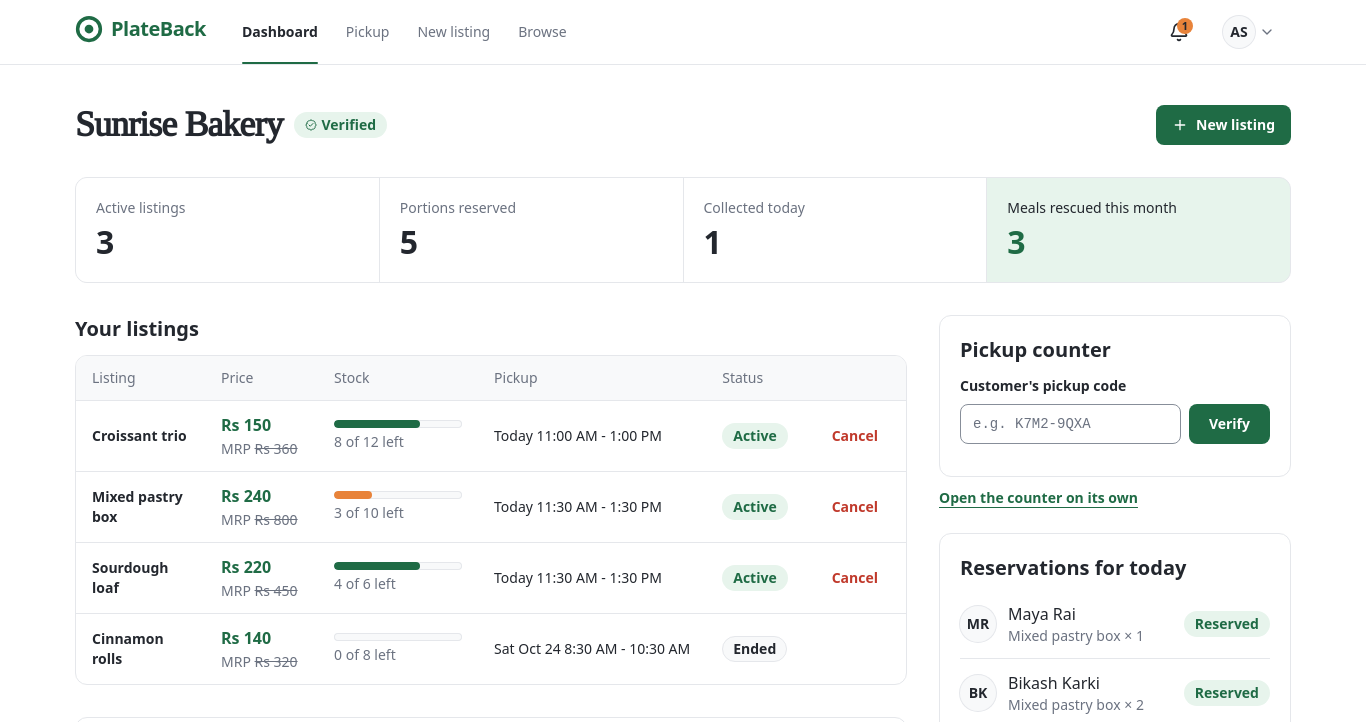
Test case: OrgDashboardPage › rejects an unknown code and changes nothing
The image size is (1366, 722).
Check: the heading "Sunrise Bakery" is shown, box [75,105,282,145]
Type "AAAA-BBBB" into the field labelled "Customer's pickup code". click: (1070, 424)
box: [960,404,1181,444]
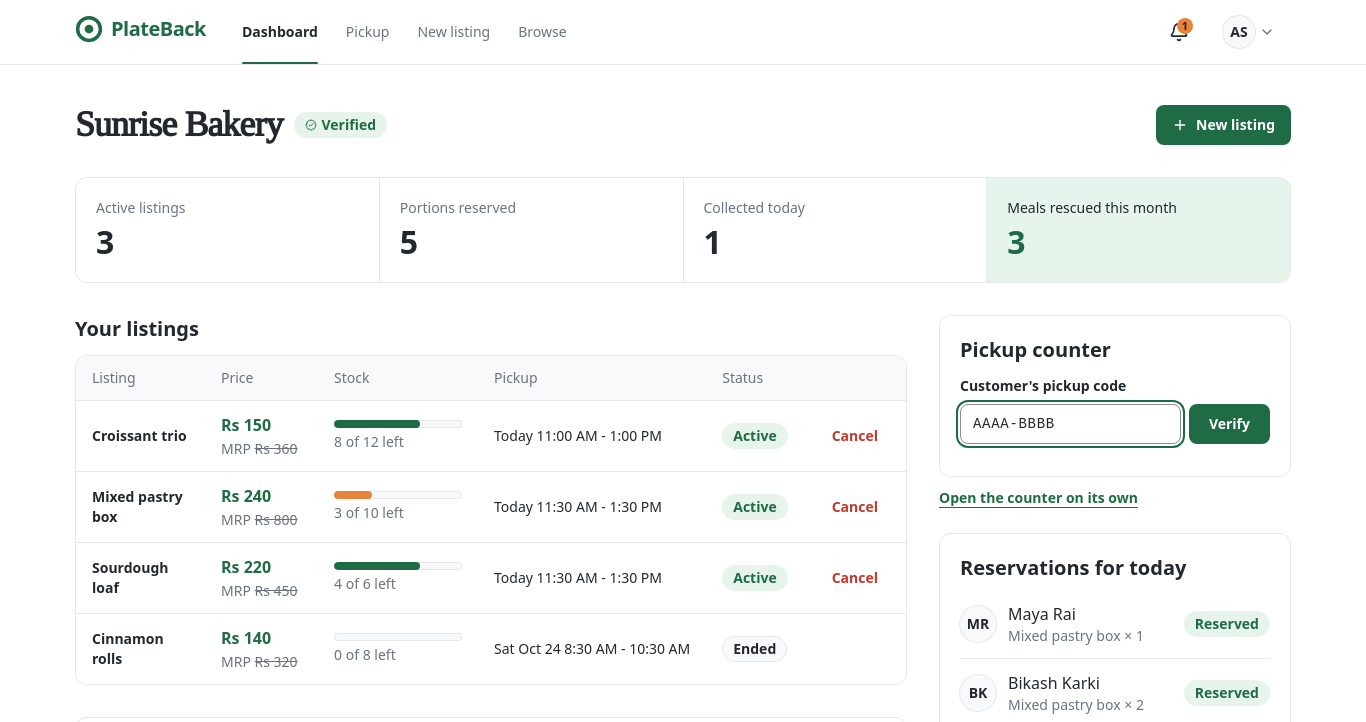
Click the button "Verify". click: click(1229, 424)
box: [1189,404,1270,444]
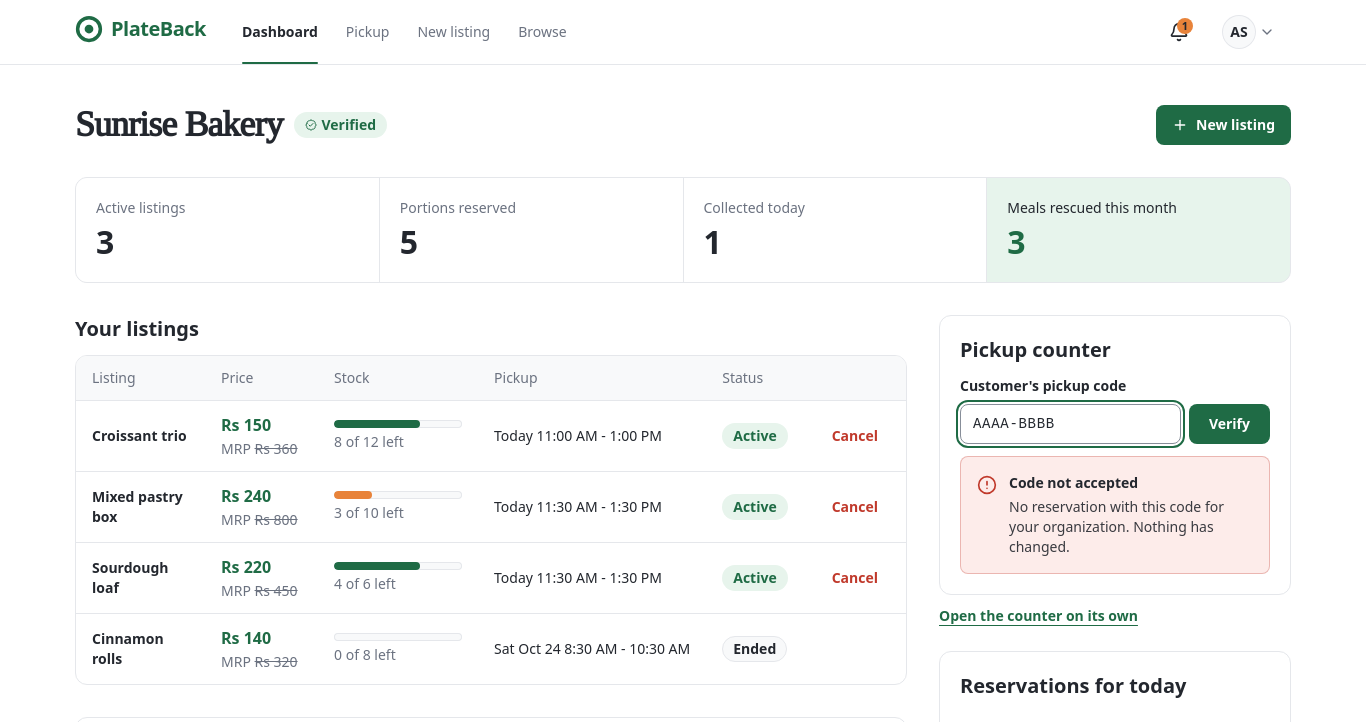
Check: the message shows "No reservation with this code for your organization.", box [1009,497,1224,536]
